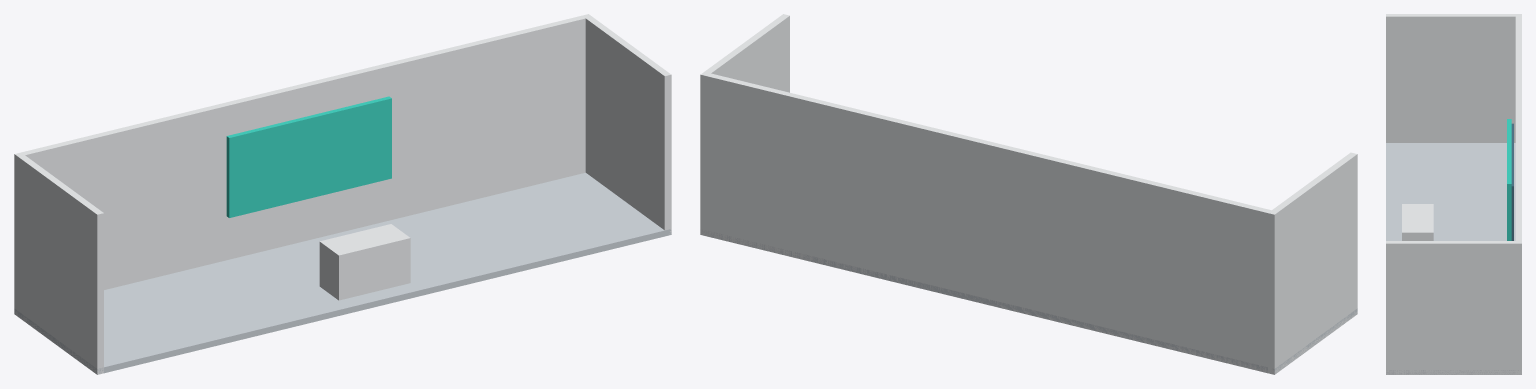
The picture shows the model from 3 angles, left to right: view 1: azimuth 30°, elevation 25°; view 2: azimuth 150°, elevation 25°; view 3: azimuth 270°, elevation 25°; orthographic projection. The views are drawn at different scales.
Parts seen in each view (by area): view 1: Exhibition Booth Concept; view 2: Exhibition Booth Concept; view 3: Exhibition Booth Concept.
Part boxes in pixels (<box>): Exhibition Booth Concept: <box>14,14,671,374</box>; Exhibition Booth Concept: <box>700,14,1357,374</box>; Exhibition Booth Concept: <box>1386,14,1521,374</box>.
Bounding box in the file's own units: 12 × 3.2 × 3.
